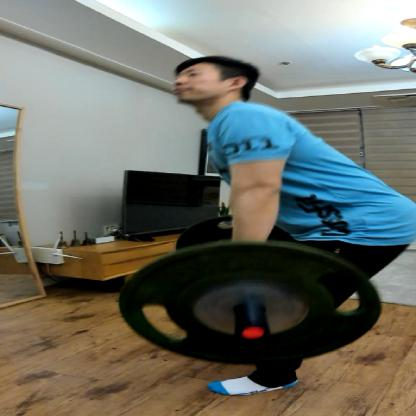Barbell: (112, 235, 384, 370)
